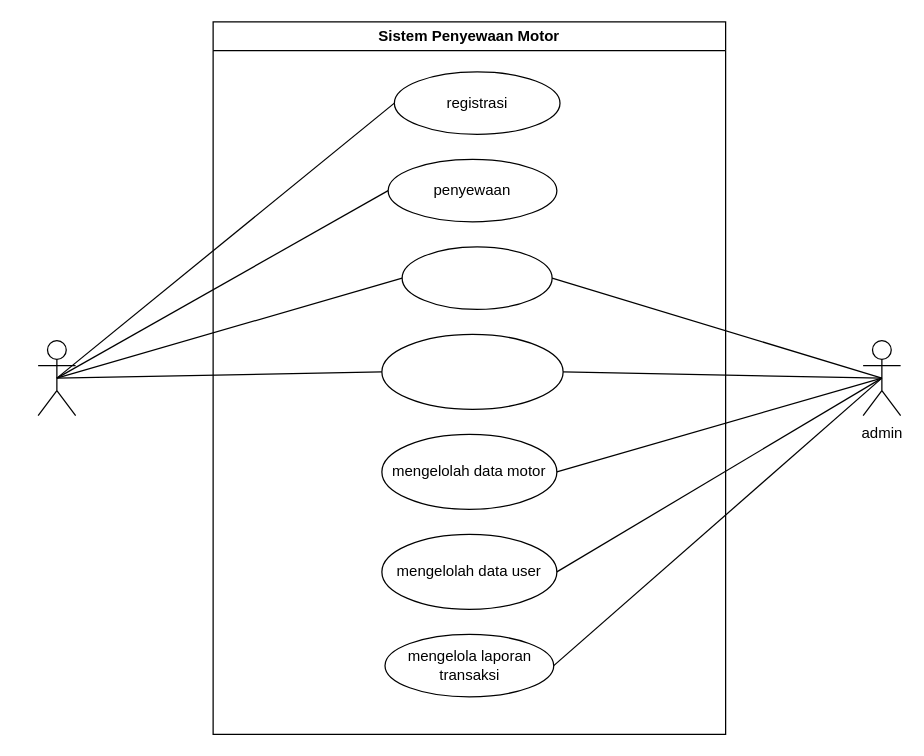
Some shapes in this 924 by 756 pixel diagram are drawn without their labels. Here are the shapes that lost their labels. From the top down, the centre of each, then its label:
At [476,277]: "LOGIN".
At [56,377]: "pelanggan".
At [472,371]: "pengembalian".
